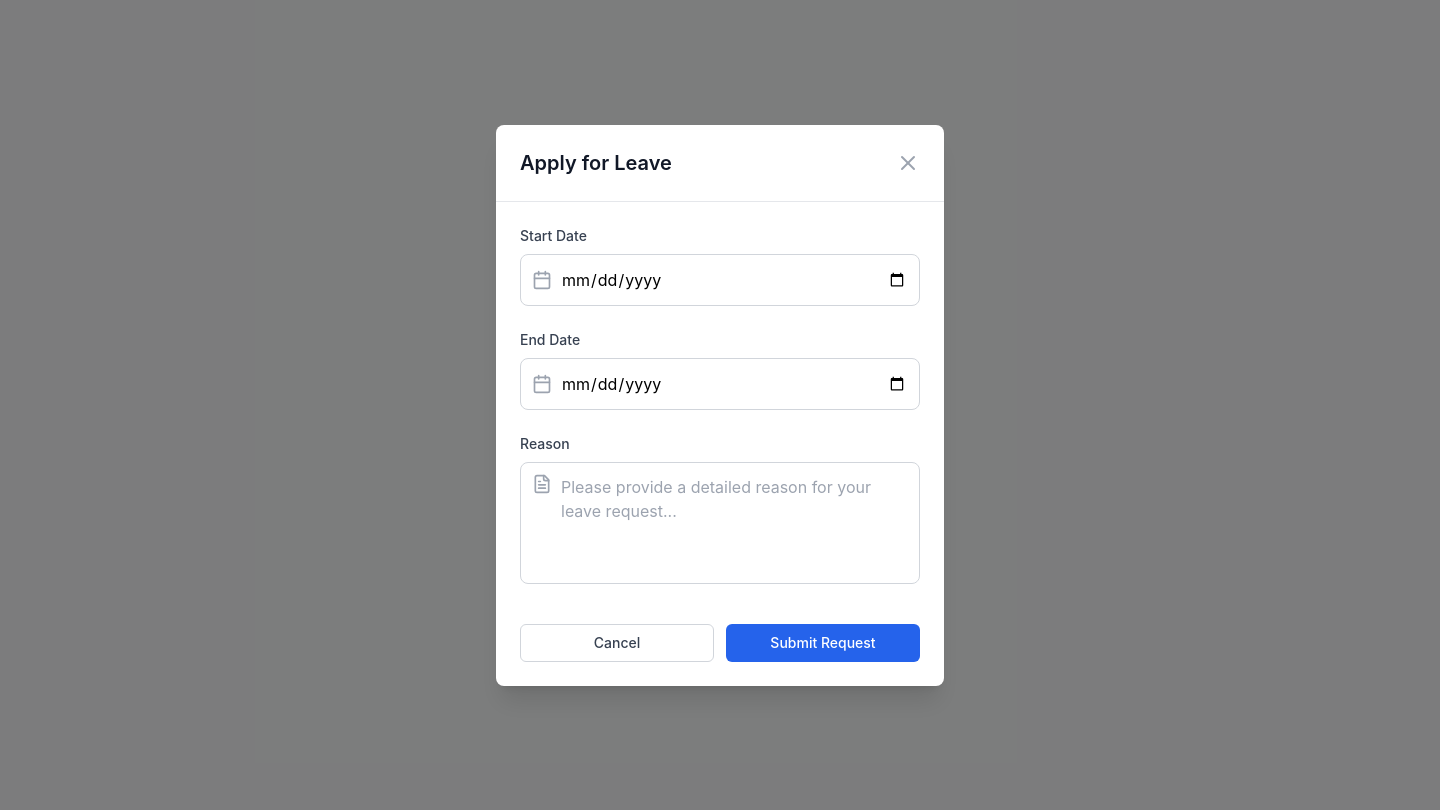
LeaveApplicationForm › validates required fields
The width and height of the screenshot is (1440, 810).
Click the button "Submit Request" at (823, 642), box x1=726 y1=624 x2=920 y2=662
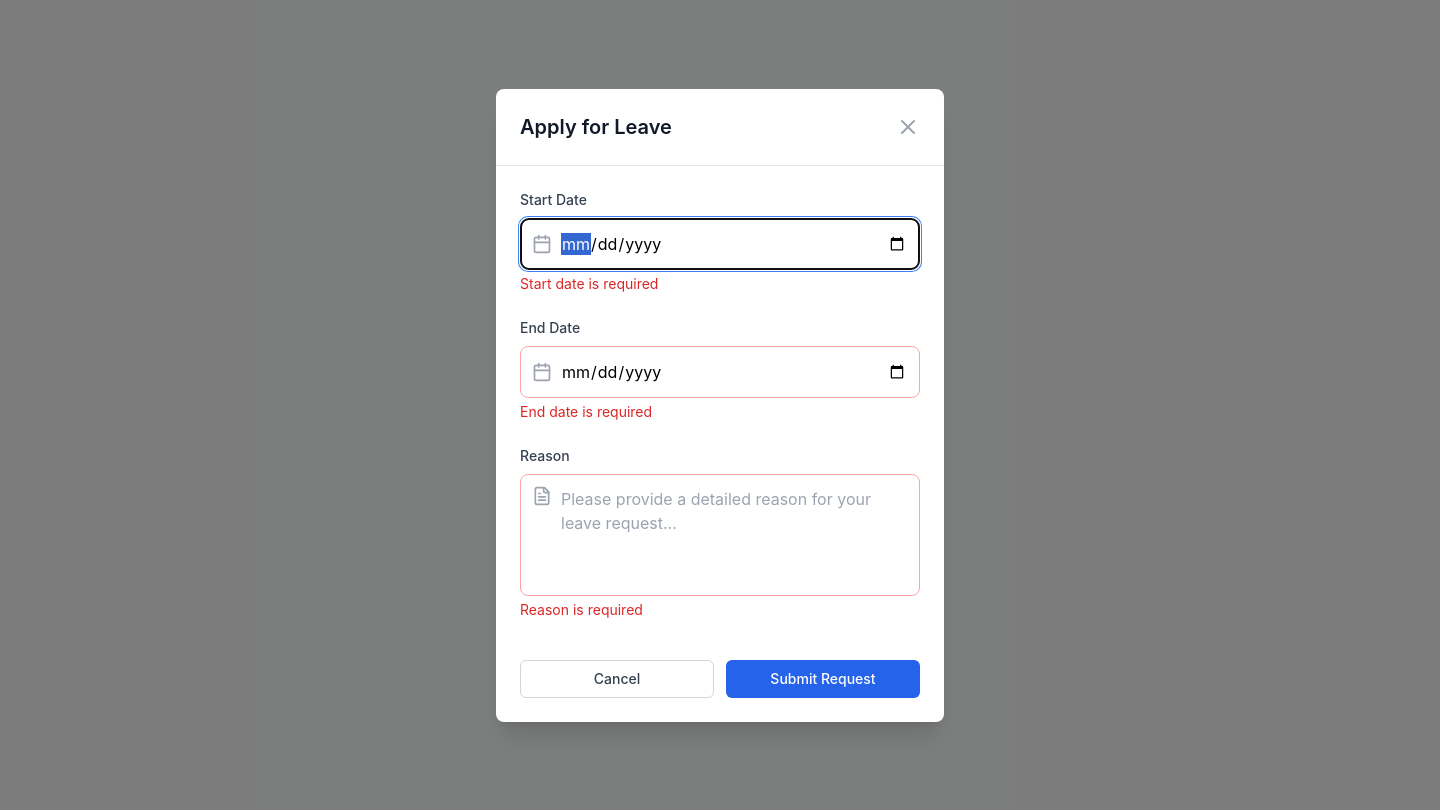
Now the text "Start date is required" is shown, box x1=520 y1=274 x2=658 y2=292
Now the text "End date is required" is shown, box x1=520 y1=402 x2=652 y2=420
Now the text "Reason is required" is shown, box x1=520 y1=600 x2=643 y2=618
